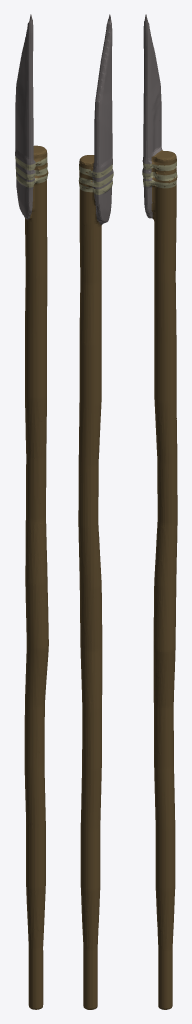
The model's file is tool-woodenSpear.glb.
The picture shows the model from 3 angles, left to right: view 1: azimuth 30°, elevation 25°; view 2: azimuth 150°, elevation 25°; view 3: azimuth 330°, elevation 25°; orthographic projection.
Visible parts, largest first — view 1: Spear_0; view 2: Spear_0; view 3: Spear_0.
Boxes of the visible parts, box(x1,y1,x2,y2) form: Spear_0: box(15, 14, 48, 1009); Spear_0: box(78, 14, 113, 1009); Spear_0: box(142, 14, 177, 1009).
Size of the model in its own units: 1.4 by 49.29 by 1.34.
